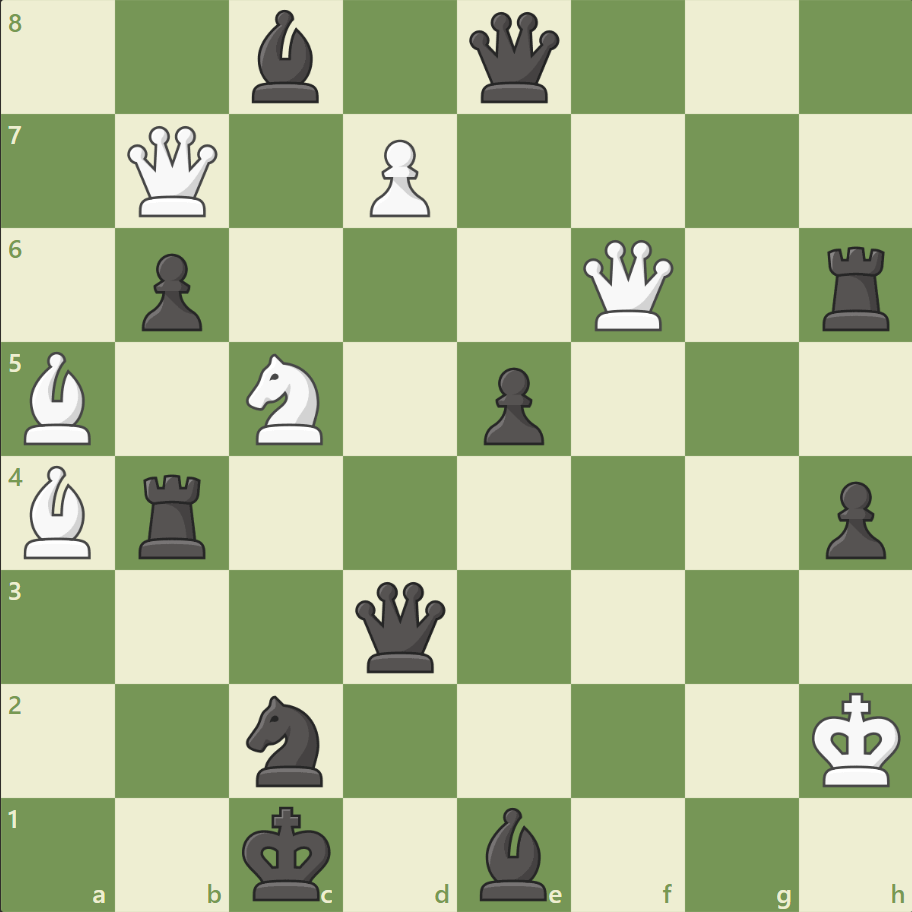B: (17, 460, 101, 563), (17, 347, 101, 449)
K: (806, 685, 906, 793)
N: (238, 348, 335, 450)
P: (361, 132, 435, 223)
Q: (124, 122, 223, 222), (578, 236, 677, 335)
b: (244, 6, 328, 109), (471, 801, 555, 904)
k: (238, 798, 338, 906)
n: (238, 688, 335, 791)
p: (133, 246, 208, 337), (474, 359, 549, 450), (815, 473, 889, 564)
q: (351, 576, 450, 676), (464, 9, 563, 108)
r: (814, 239, 897, 336), (133, 466, 215, 563)
